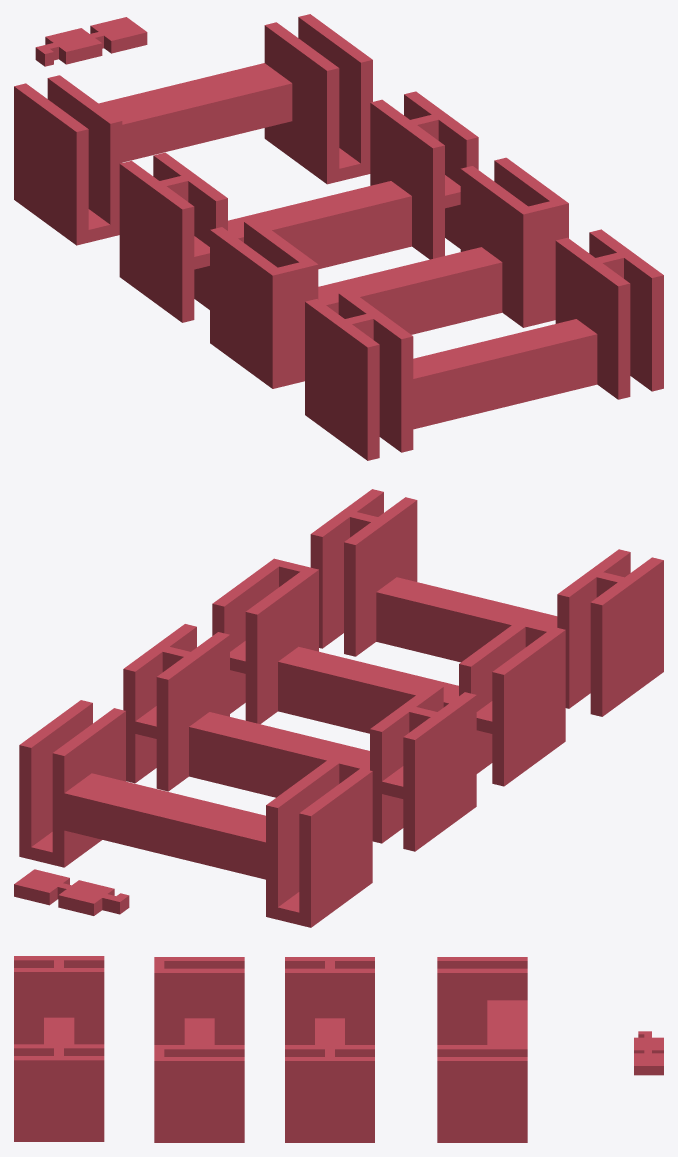
File: 3dcollection.glb
3 views of the same model, one above another, from view 1: azimuth 30°, elevation 25°; view 2: azimuth 150°, elevation 25°; view 3: azimuth 270°, elevation 25° (orthographic). The views are drawn at different scales.
Parts seen in each view (by area): view 1: Mesh_Mesh_head_geo.001_lambert2SG.001; view 2: Mesh_Mesh_head_geo.001_lambert2SG.001; view 3: Mesh_Mesh_head_geo.001_lambert2SG.001.
Boxes of the visible parts, <box> form: Mesh_Mesh_head_geo.001_lambert2SG.001: <box>14,14,663,460</box>; Mesh_Mesh_head_geo.001_lambert2SG.001: <box>14,489,663,927</box>; Mesh_Mesh_head_geo.001_lambert2SG.001: <box>14,956,663,1142</box>.
Size of the model in its own units: 124 by 45 by 324.
